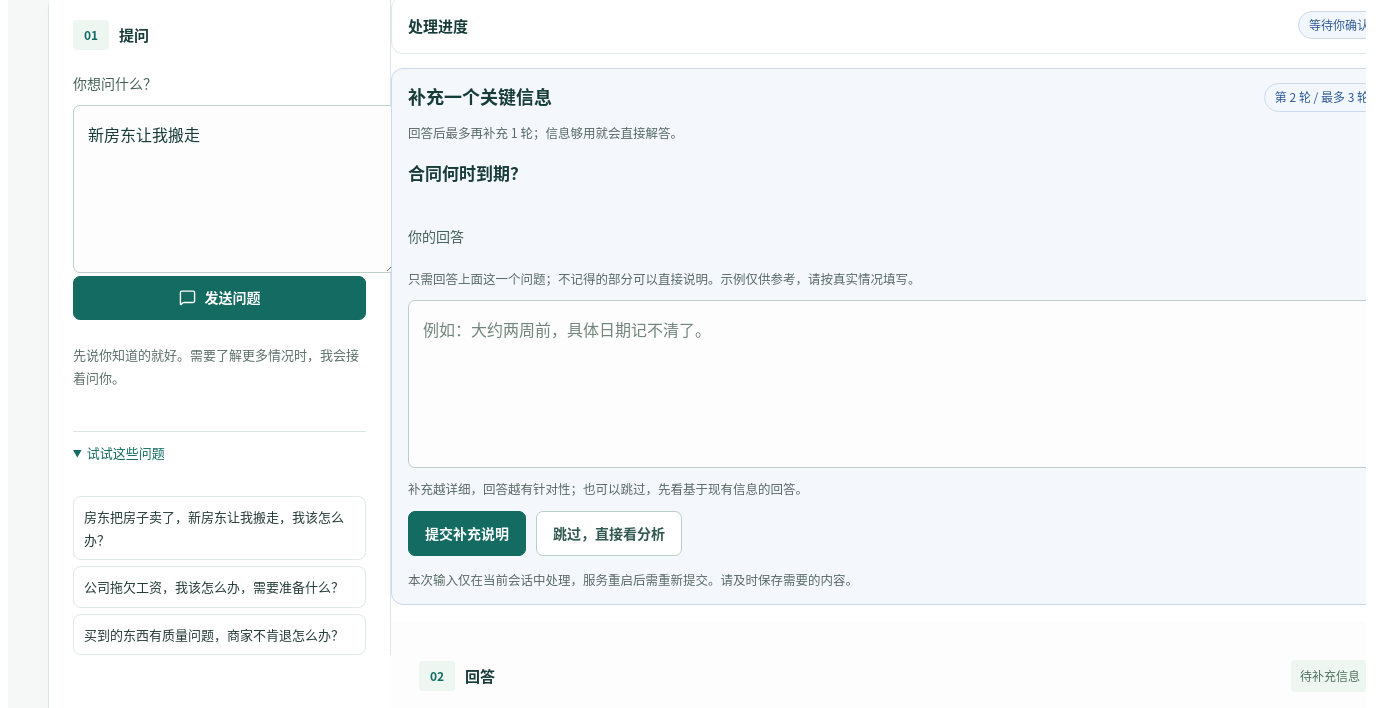
Test: 咨询整页的失败与恢复 › 刷新后从快照恢复追问入口，提交补充后轮询完成也结束进行中
(page scrolled)
Expected: the text "合同何时到期？" is shown, [408, 160, 527, 185]
In the text box labelled "你的回答": point(887, 384) [408, 300, 1366, 468], type "明年到期"
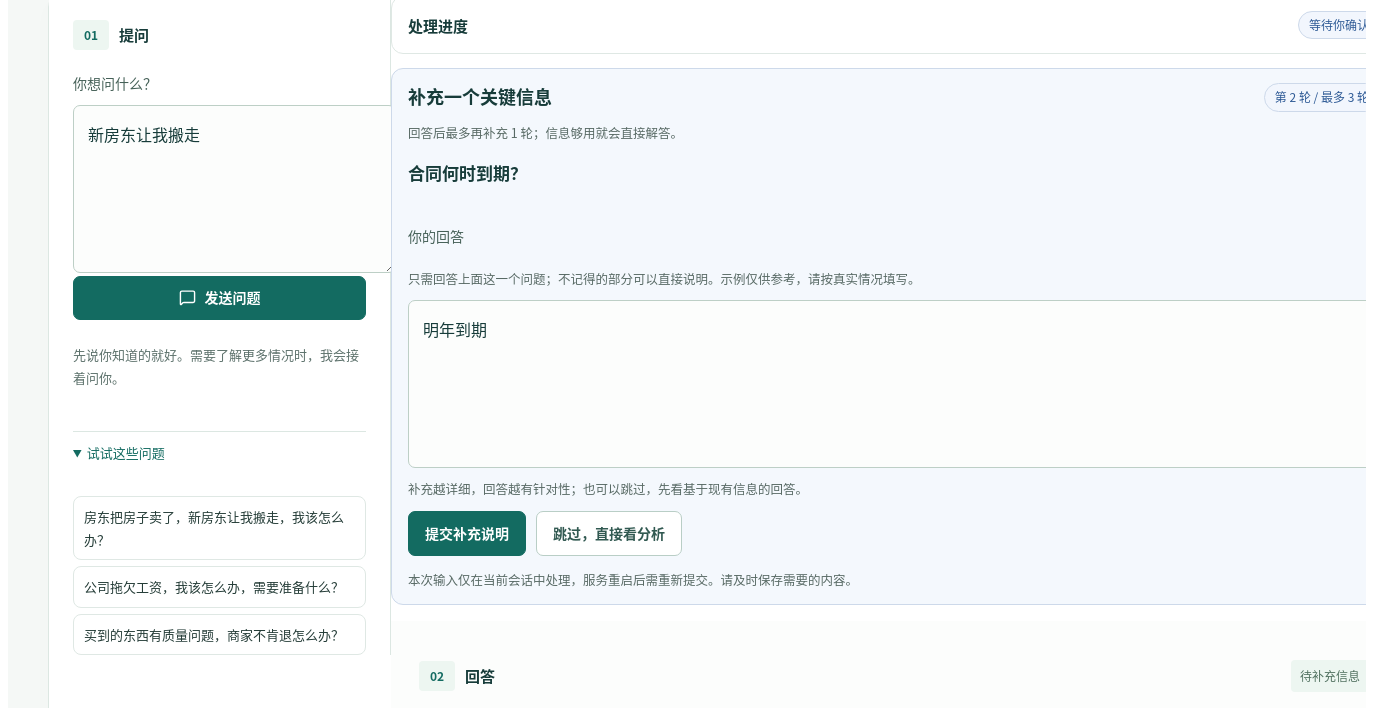
Click the button "提交补充说明": point(467, 533) [408, 511, 526, 556]
Wait 2500 ms
(page scrolled)
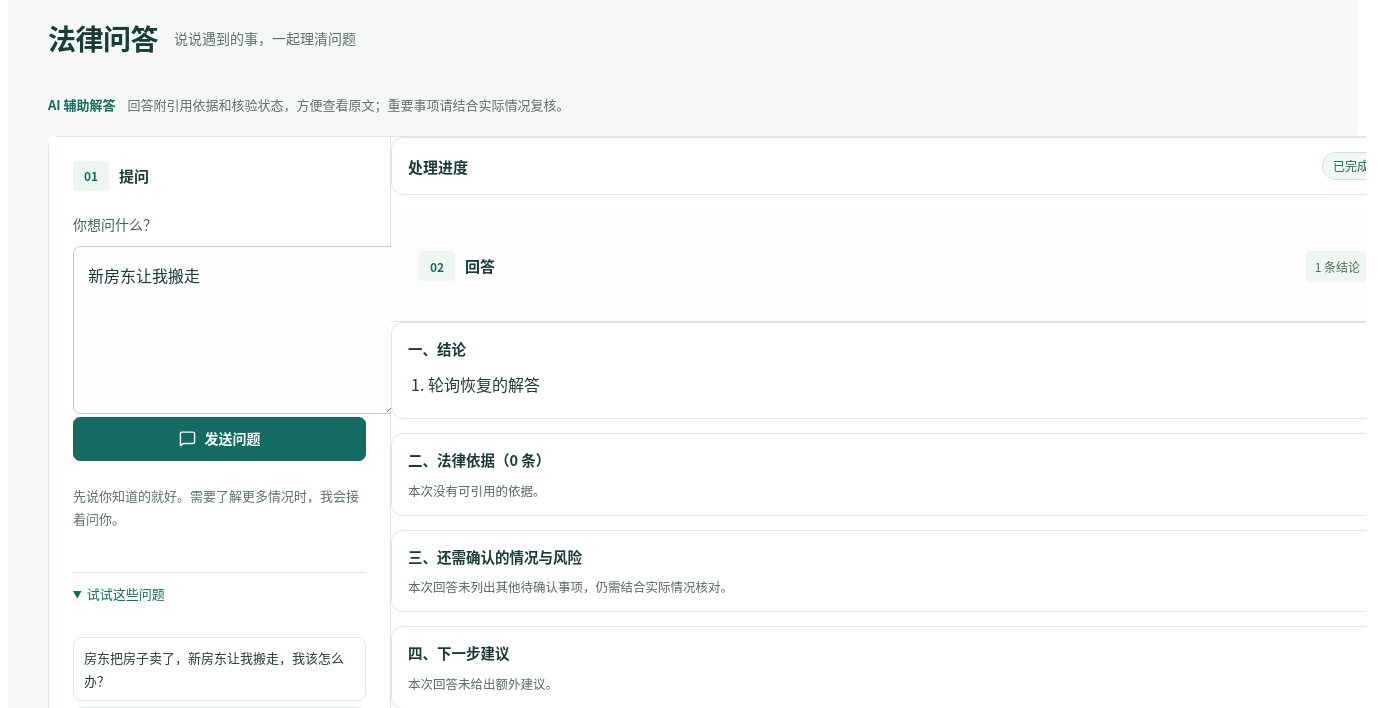
Expected: the text "轮询恢复的解答" is shown, [428, 372, 540, 396]
Expected: the label labelled "你的回答" is gone
